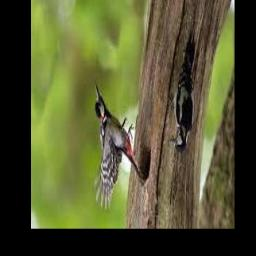Woodpecker: (95, 87, 141, 210), (169, 35, 195, 153)
